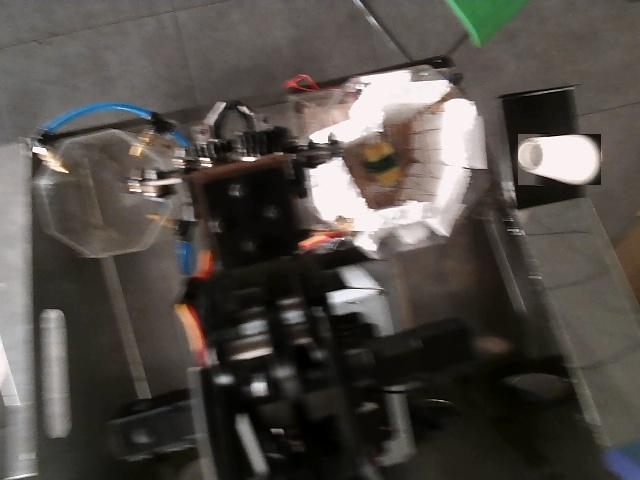cup: (518, 134, 601, 185)
